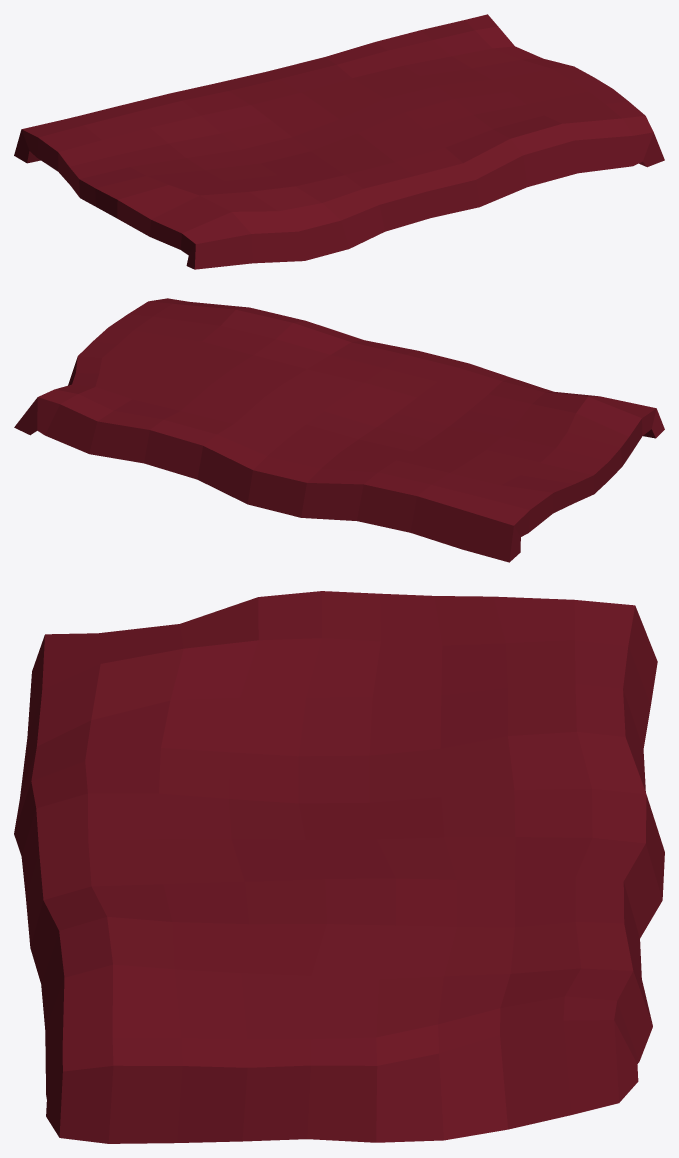
Rendered from duvet.fbx.
The picture shows the model from 3 angles, top to bottom: view 1: azimuth 30°, elevation 25°; view 2: azimuth 150°, elevation 25°; view 3: azimuth 270°, elevation 25°; orthographic projection. The views are drawn at different scales.
Visible parts, largest first — view 1: duvet; view 2: duvet; view 3: duvet.
Boxes of the visible parts, x1,y1,x2,y2 form: duvet: [14, 14, 664, 269]; duvet: [14, 298, 664, 562]; duvet: [14, 591, 664, 1143].
Size of the model in its own units: 151 by 14.5 by 88.13.
